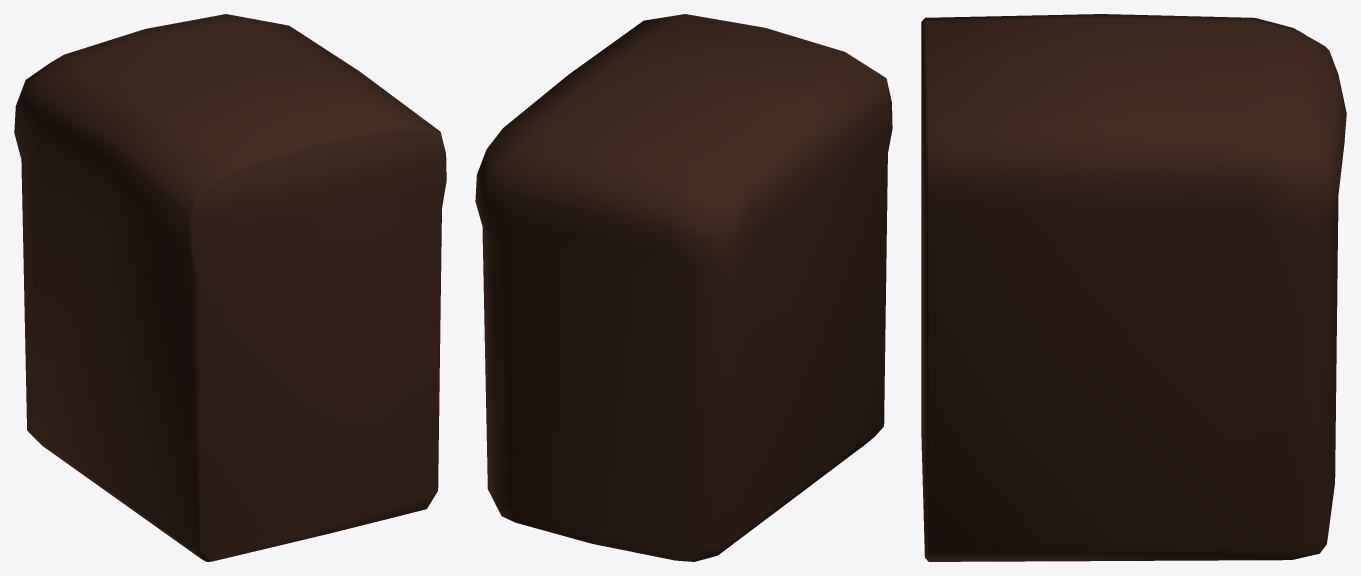
The model's file is 245butter.obj.
The picture shows the model from 3 angles, left to right: view 1: azimuth 30°, elevation 25°; view 2: azimuth 150°, elevation 25°; view 3: azimuth 270°, elevation 25°; orthographic projection. The views are drawn at different scales.
Parts seen in each view (by area): view 1: 245.002; view 2: 245.002; view 3: 245.002.
Boxes of the visible parts, left/top/right/bottom form: 245.002: left=14, top=14, right=446, bottom=561; 245.002: left=475, top=14, right=892, bottom=561; 245.002: left=921, top=14, right=1346, bottom=561.
Size of the model in its own units: 0.0866 by 0.1252 by 0.1086.
